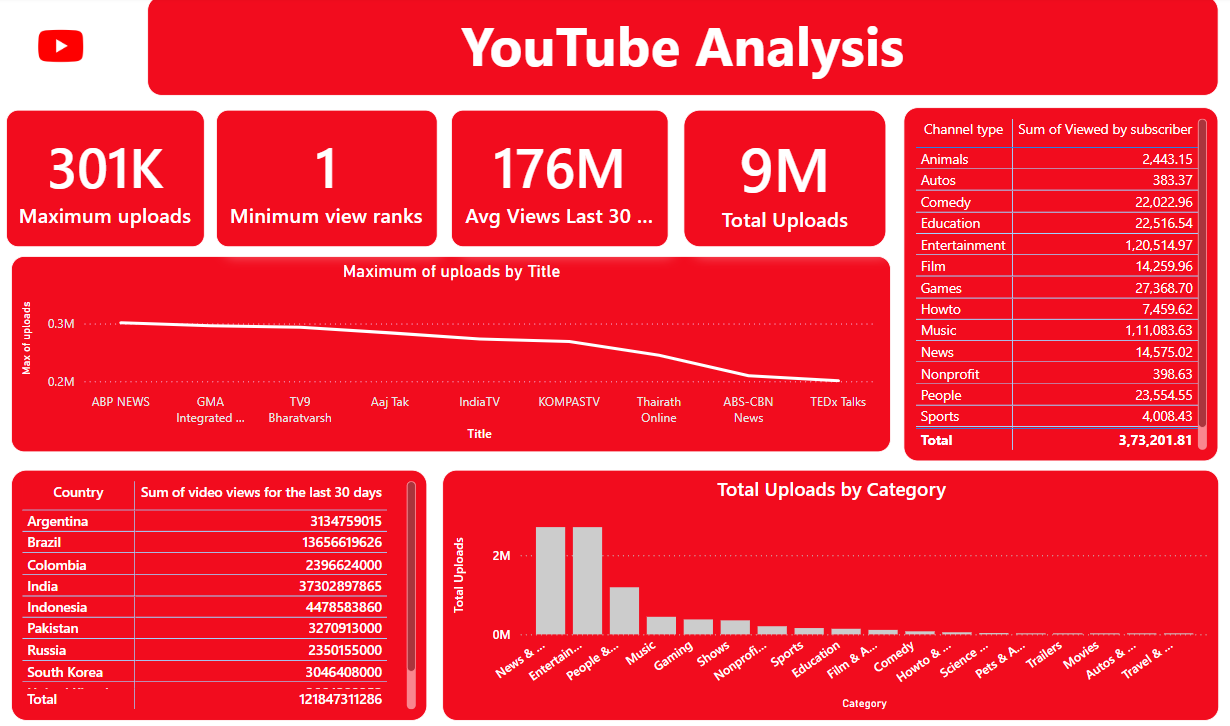

This screenshot's page, from the dashboard's own definition file:
{"tool":"powerbi","page":{"name":"Page 1","canvas":[1280,720],"ordinal":0},"visuals":[{"type":"card","fields":{"Values":["Max(Table1.uploads)"]},"box":[9.8,111.3,194.4,134.5],"z":0},{"type":"lineChart","title":"Maximum of uploads by Title","fields":{"Category":["Table1.Title"],"Y":["Max(Table1.uploads)"]},"box":[14.7,254.3,860.9,192],"z":1000},{"type":"card","fields":{"Values":["Min(Table1.video_views_rank)"]},"box":[215.2,111.3,216.4,134.5],"z":2000},{"type":"card","fields":{"Values":["Table1.AvgViewsLast30Days"]},"box":[445.1,111.3,212.8,134.5],"z":3000},{"type":"tableEx","fields":{"Values":["Table1.channel_type","Sum(Table1.Viewed_by_subscriber)"]},"box":[887.8,108.8,308.2,346.1],"z":4000},{"type":"card","fields":{"Values":["Table1.Total_Uploads"]},"box":[672.6,111.3,198.1,134.5],"z":5000},{"type":"textbox","box":[148,0,1048,97.8],"z":5001},{"type":"image","box":[9.6,0,107,97.4],"z":5002},{"type":"pivotTable","fields":{"Rows":["Table1.Country"],"Values":["Sum(Table1.video_views_for_the_last_30_days)"]},"box":[15.1,463.8,407.5,245.6],"z":5003},{"type":"clusteredColumnChart","title":"Total Uploads by Category","fields":{"Y":["Table1.Total_Uploads"],"Category":["Table1.category"]},"box":[436.4,463.8,760.2,245.6],"z":5004}]}

Visuals, with their boxes on the page's 1280x720 design canvas (x1, y1, x2, y2). These are canvas units, not pixel positions in the 1230x726 screenshot, which may show the page scaled, cropped or inside an application window:
card - Max(Table1.uploads): [x1=10, y1=111, x2=204, y2=246]
"Maximum of uploads by Title" lineChart: [x1=15, y1=254, x2=876, y2=446]
card - Min(Table1.video_views_rank): [x1=215, y1=111, x2=432, y2=246]
card - Table1.AvgViewsLast30Days: [x1=445, y1=111, x2=658, y2=246]
tableEx - Table1.channel_type x Sum(Table1.Viewed_by_subscriber): [x1=888, y1=109, x2=1196, y2=455]
card - Table1.Total_Uploads: [x1=673, y1=111, x2=871, y2=246]
textbox: [x1=148, y1=0, x2=1196, y2=98]
image: [x1=10, y1=0, x2=117, y2=97]
pivotTable - Table1.Country x Sum(Table1.video_views_for_the_last_30_days): [x1=15, y1=464, x2=423, y2=709]
"Total Uploads by Category" clusteredColumnChart: [x1=436, y1=464, x2=1197, y2=709]
